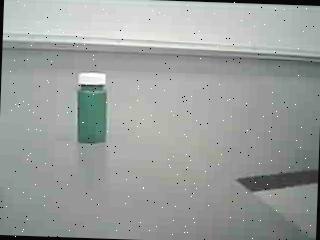Bottle C: (64, 64, 124, 158)
